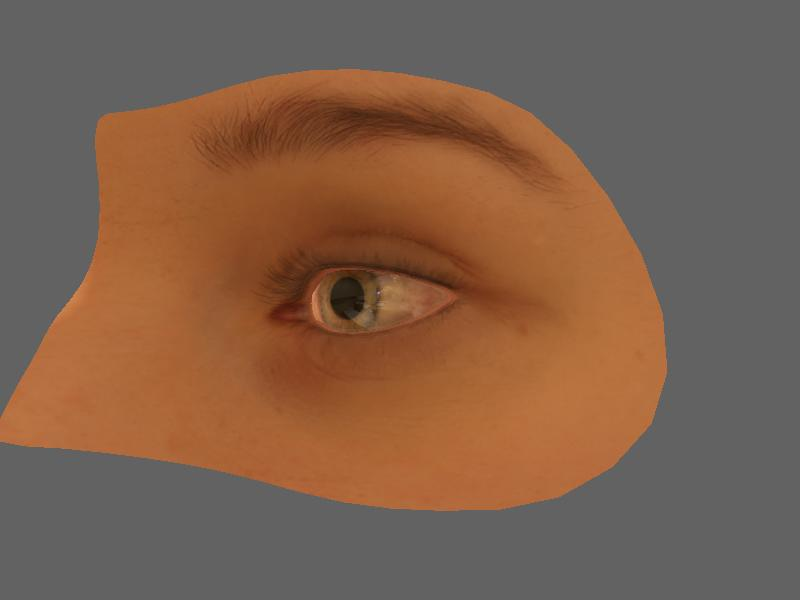iris: (311, 269, 381, 330)
